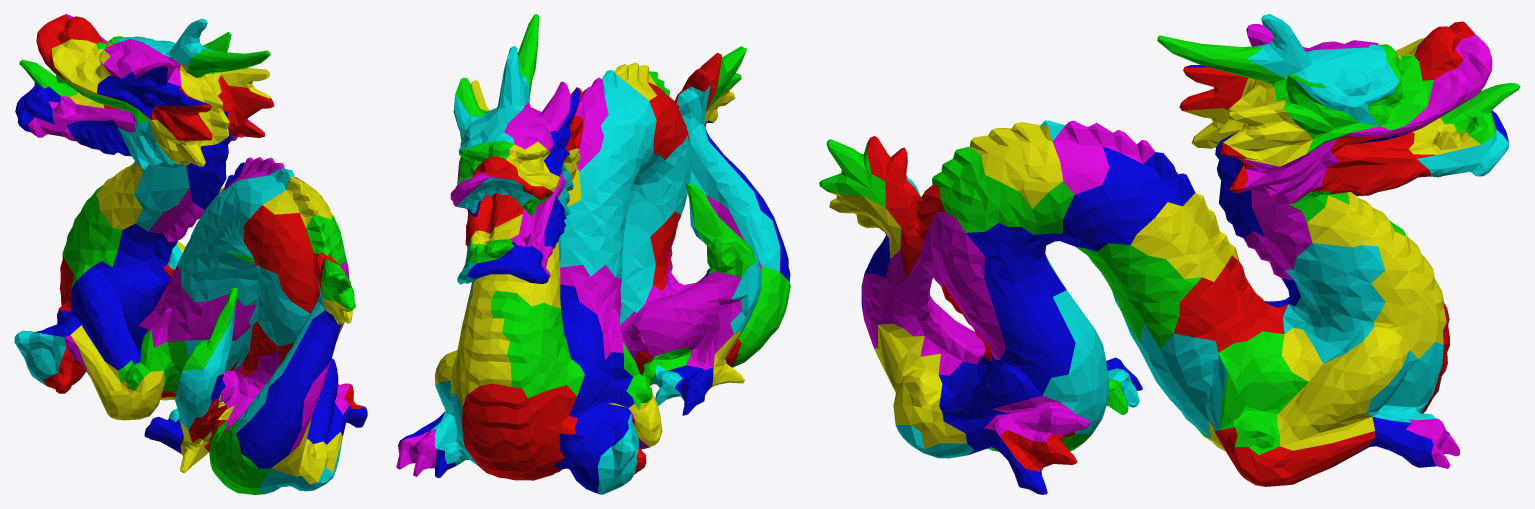
Rendered from Dragon_80K_3.fbx.
The picture shows the model from 3 angles, left to right: view 1: azimuth 30°, elevation 25°; view 2: azimuth 150°, elevation 25°; view 3: azimuth 270°, elevation 25°; orthographic projection. The views are drawn at different scales.
Size of the model in its own units: 0.4474 by 0.7052 by 1.
